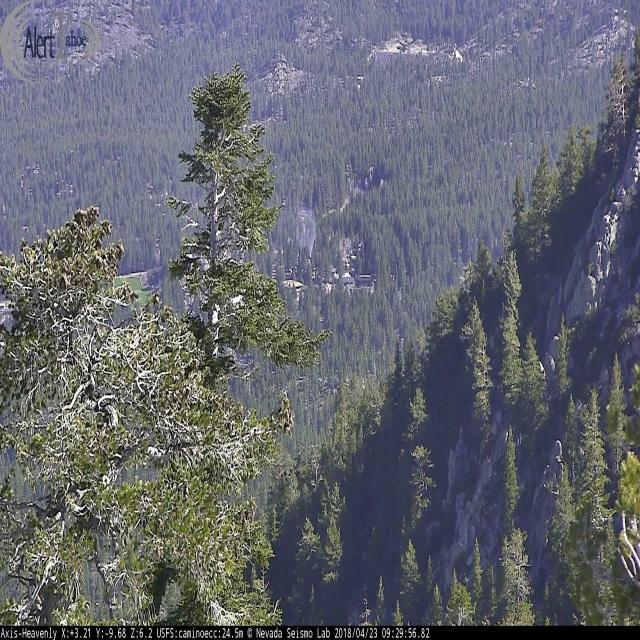smoke: (285, 194, 329, 261)
